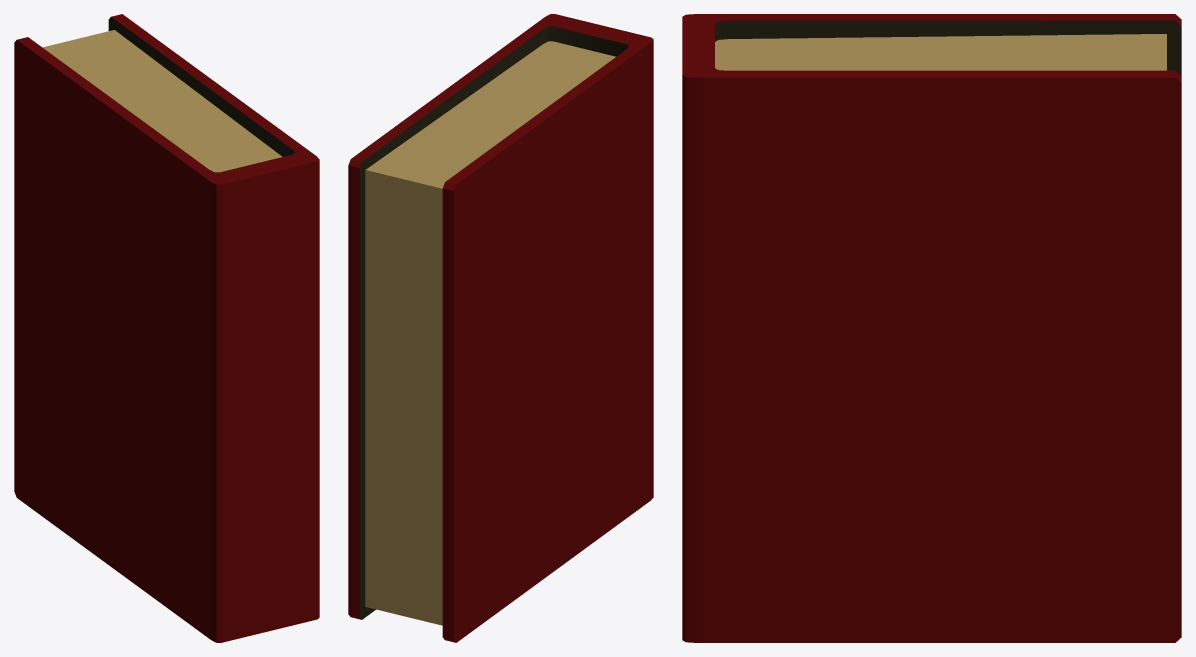
File: Book.FBX
3 renders of one model, left to right at view 1: azimuth 30°, elevation 25°; view 2: azimuth 150°, elevation 25°; view 3: azimuth 270°, elevation 25°, orthographic. The views are drawn at different scales.
Parts seen in each view (by area): view 1: Box002; view 2: Box002; view 3: Box002.
Part boxes in pixels (x1,y1,x2,y2): Box002: (14, 14, 319, 642); Box002: (348, 14, 653, 642); Box002: (682, 14, 1181, 642).
Bounding box in the file's own units: 18.99 × 78.74 × 62.99.
